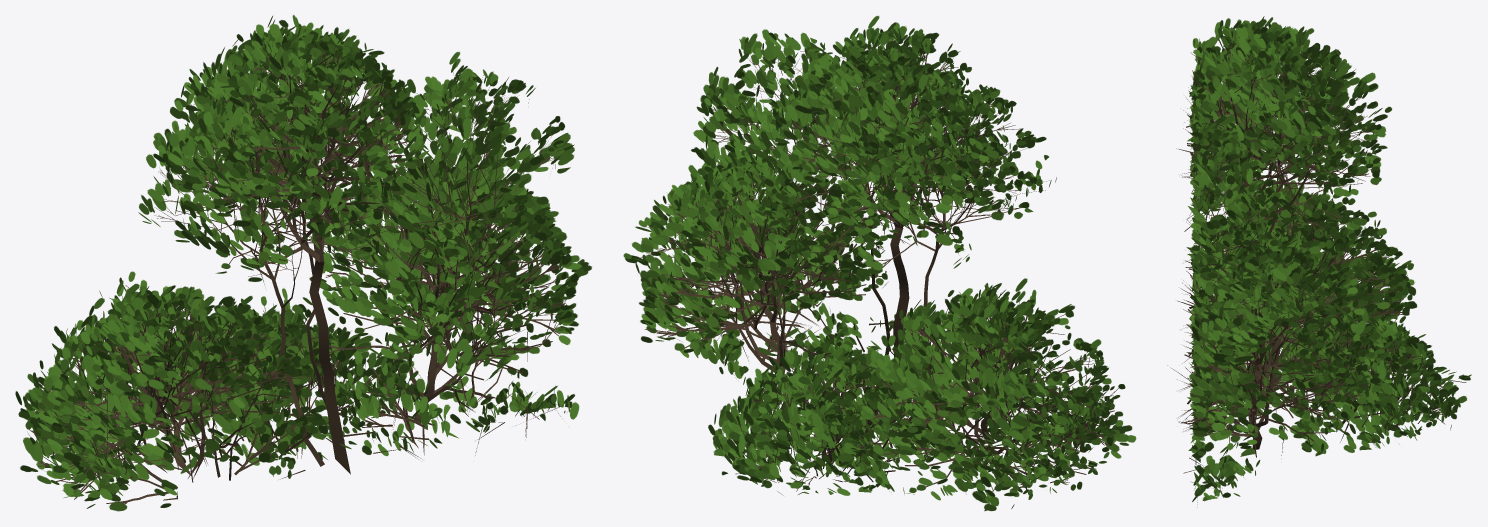
3 renders of one model, left to right at view 1: azimuth 30°, elevation 25°; view 2: azimuth 150°, elevation 25°; view 3: azimuth 270°, elevation 25°, orthographic. The views are drawn at different scales.
Parts seen in each view (by area): view 1: oak 01.001_trunk_Mat.001_0.185; view 2: oak 01.001_trunk_Mat.001_0.185; view 3: oak 01.001_trunk_Mat.001_0.185.
Boxes of the visible parts, <box> form: oak 01.001_trunk_Mat.001_0.185: <box>15,15,591,511</box>; oak 01.001_trunk_Mat.001_0.185: <box>623,16,1136,511</box>; oak 01.001_trunk_Mat.001_0.185: <box>1167,16,1471,504</box>.
Bounding box in the file's own units: 5.08 × 4.09 × 2.9.
2 materials, 1 textured.
